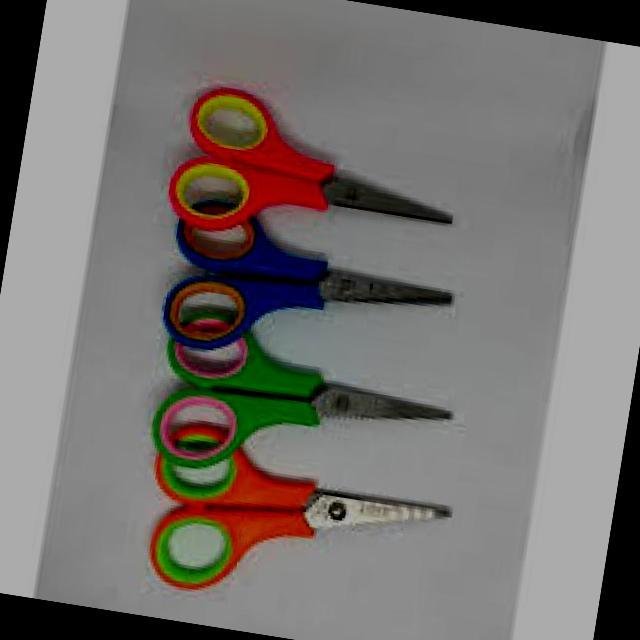Scissors: (108, 406, 478, 638), (121, 302, 480, 508), (136, 191, 473, 400), (158, 81, 480, 273)
